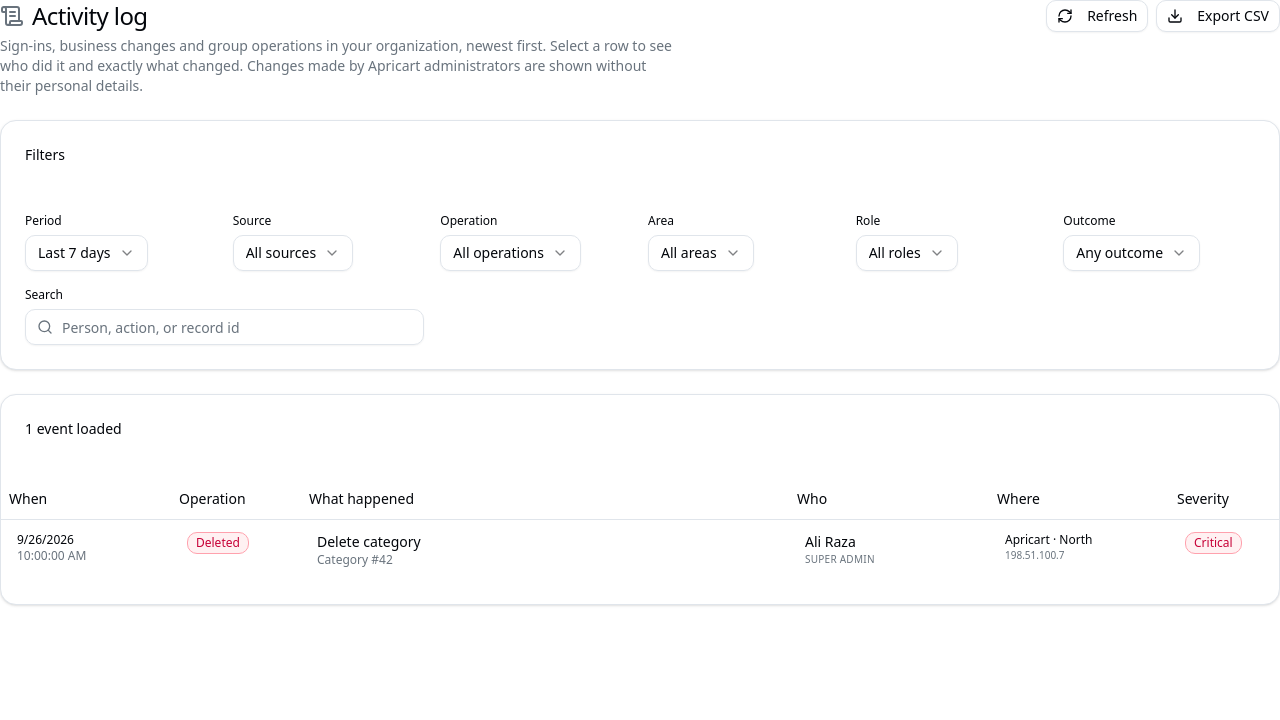
Test: the detail panel › opens from a row and shows who, from where, and what changed
Expected: the text "Delete category" is shown, [317,532,421,550]
The row is a button, so it is reachable and operable from the keyboard.
Click the button with aria-label "Delete category, Deleted, Critical": (45, 539) [1,520,1279,580]
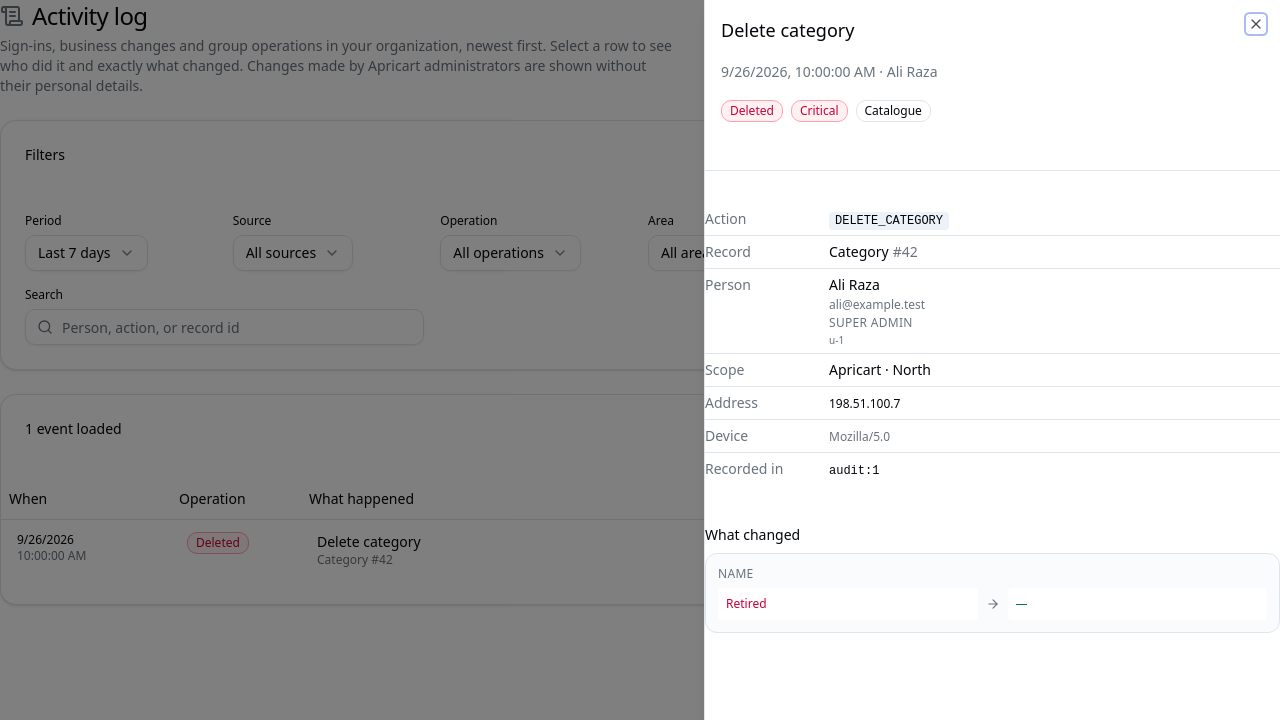
Now the text "DELETE_CATEGORY" is shown, box [829,212,949,230]
Now the text "198.51.100.7" is shown, box [829,395,900,412]
Now the heading "What changed" is shown, box [705,525,800,544]
